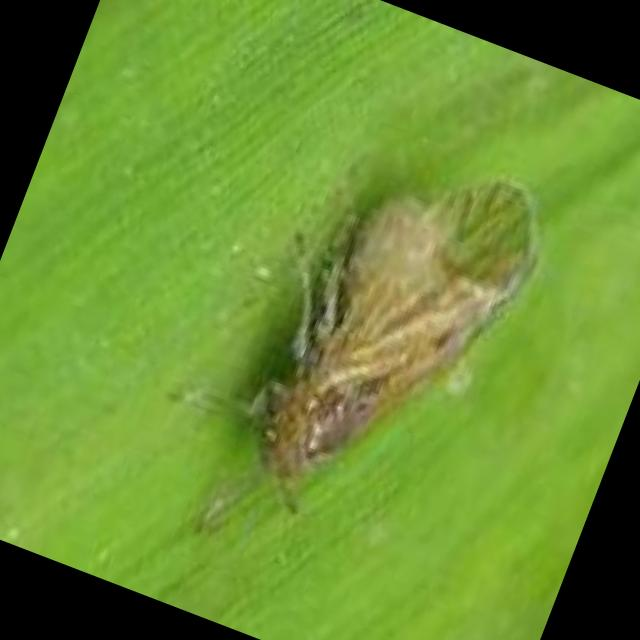brown-planthopper: (202, 108, 578, 570)
